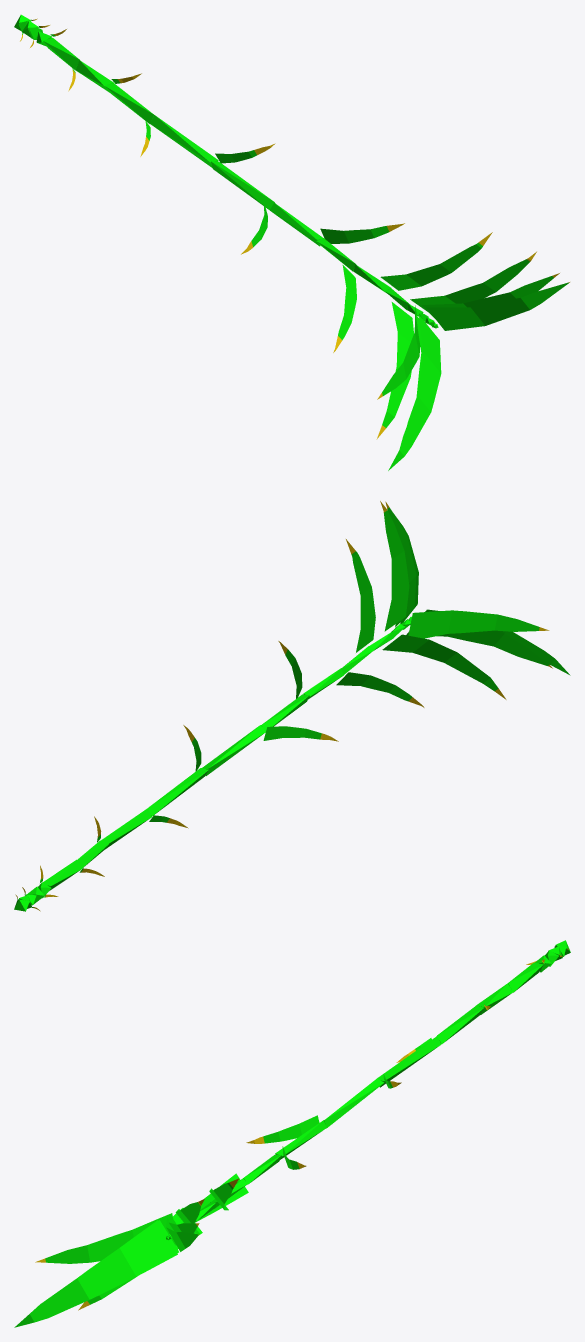
File: usm_24_2.5D_2018-09-01_3.obj
3 renders of one model, top to bottom at view 1: azimuth 30°, elevation 25°; view 2: azimuth 150°, elevation 25°; view 3: azimuth 330°, elevation 25°, orthographic. The views are drawn at different scales.
Visible parts, largest first — view 1: vid_40, vid_42, vid_32, vid_28, vid_30, vid_36, vid_34, vid_19, vid_24, vid_21, vid_26, vid_17 (+1 smaller); view 2: vid_34, vid_30, vid_32, vid_28, vid_38, vid_26, vid_36, vid_19, vid_21, vid_22, vid_17, vid_42; view 3: vid_42, vid_34, vid_19, vid_22, vid_21, vid_17, vid_23.
Boxes of the visible parts, x1,y1,x2,y2 form: vid_40: (426,282,568,330); vid_42: (388,315,441,470); vid_32: (410,259,529,312); vid_28: (380,242,482,290); vid_30: (382,302,413,427); vid_36: (422,276,553,318); vid_34: (382,305,420,395); vid_19: (150,115,218,167); vid_24: (320,226,388,243); vid_21: (211,161,274,209); vid_26: (338,265,356,340); vid_17: (105,83,154,123); vid_34: (408,610,539,638); vid_30: (382,634,498,691); vid_32: (384,510,409,631); vid_28: (351,551,375,652); vid_38: (406,630,548,665); vid_26: (336,672,412,701); vid_36: (387,507,416,627); vid_19: (148,768,208,816); vid_21: (202,725,265,775); vid_22: (263,726,321,740); vid_17: (101,808,151,849); vid_42: (425,609,570,675); vid_42: (14,1220,177,1327); vid_34: (45,1213,175,1263); vid_19: (377,1036,441,1087); vid_22: (263,1115,319,1143); vid_21: (324,1079,384,1128); vid_17: (437,1006,484,1044); vid_23: (275,1120,326,1159).
Size of the model in its own units: 65.2 by 53.93 by 283.
